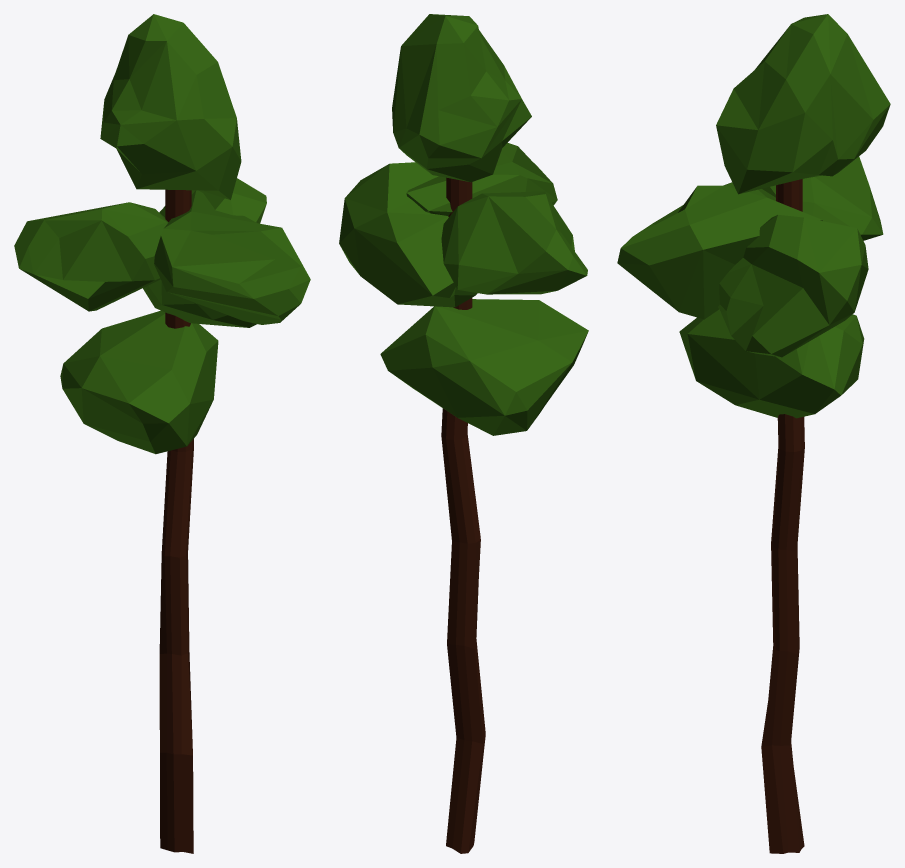
The model's file is Pine2.obj.
3 renders of one model, left to right at view 1: azimuth 30°, elevation 25°; view 2: azimuth 150°, elevation 25°; view 3: azimuth 270°, elevation 25°, orthographic. The views are drawn at different scales.
Parts seen in each view (by area): view 1: Cylinder.001; view 2: Cylinder.001; view 3: Cylinder.001.
Part boxes in pixels (x1,y1,x2,y2): Cylinder.001: (14, 14, 310, 853); Cylinder.001: (339, 14, 588, 853); Cylinder.001: (617, 14, 890, 853).
Size of the model in its own units: 13.51 by 43.1 by 12.8.
